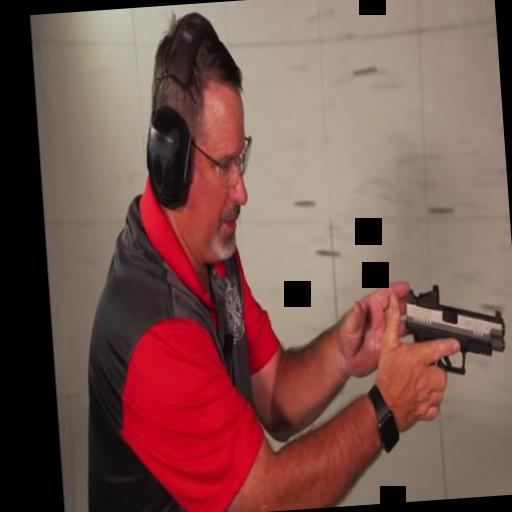Handgun: (396, 282, 510, 422)
